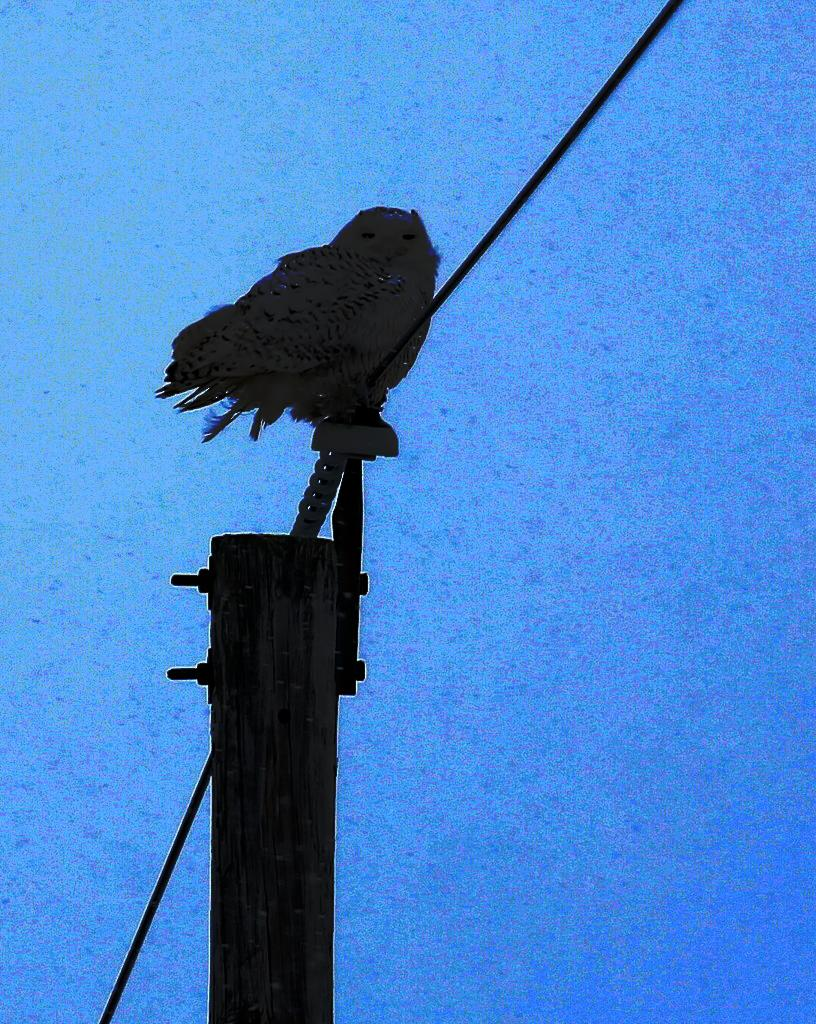Owl: (146, 205, 434, 445)
